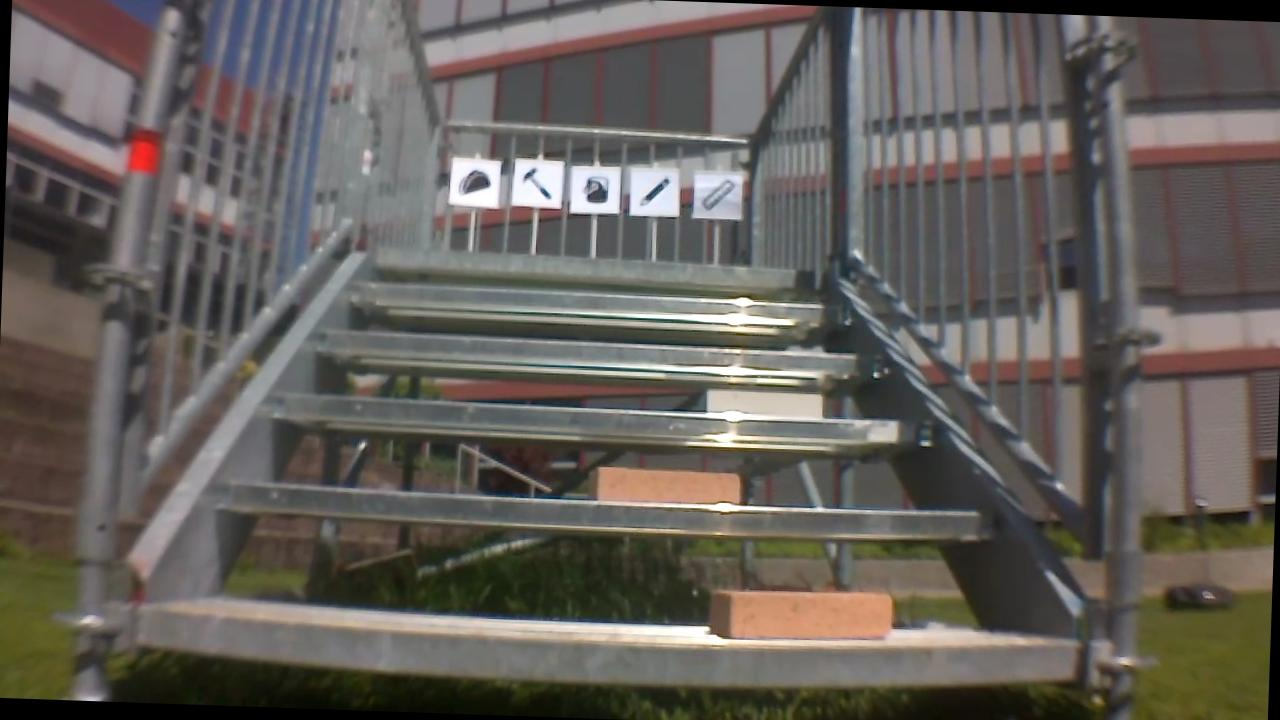brick: (708, 583, 892, 647), (584, 463, 737, 504), (702, 385, 824, 422)
bucket: (578, 173, 611, 203)
edge: (135, 602, 1090, 686), (217, 485, 999, 545), (273, 393, 940, 451), (305, 331, 894, 374), (346, 283, 854, 322), (371, 246, 813, 289)
hammer: (519, 167, 550, 201)
pencil: (635, 173, 676, 207)
ruler: (698, 178, 737, 213)
steps: (121, 248, 1094, 688)
taco: (462, 166, 489, 194)
